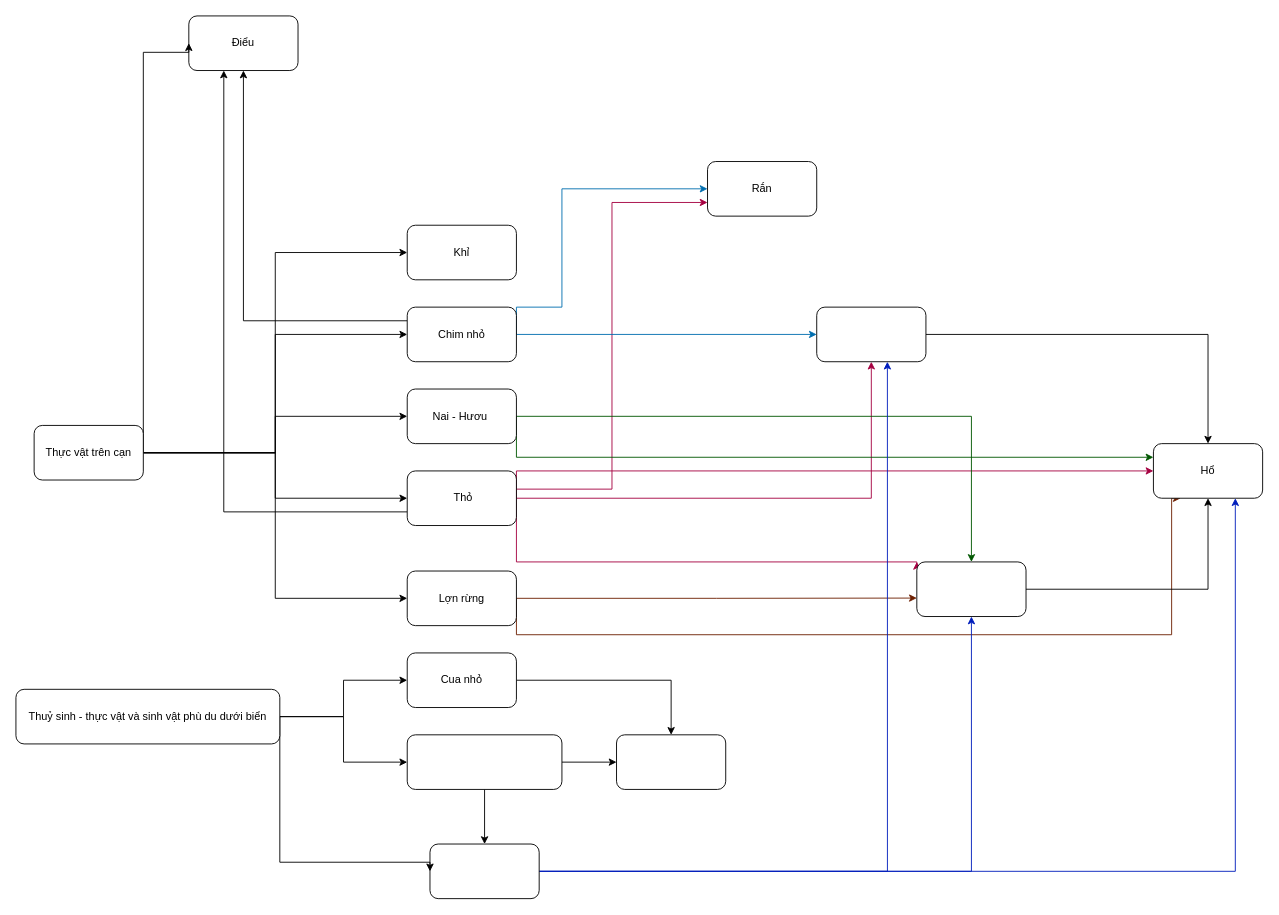
The diagram is 1279 pixels wide and 915 high, and some of its shapes have lost their labels. The centre of each missing label's shape, as x and y in pixels:
"Cá - sinh vật bị ăn nói chung" belongs at pixel 484 761.
"Cáo" belongs at pixel 871 334.
"Ngư" belongs at pixel 484 871.
"Rùa" belongs at pixel 671 761.
"Sói" belongs at pixel 971 589.
